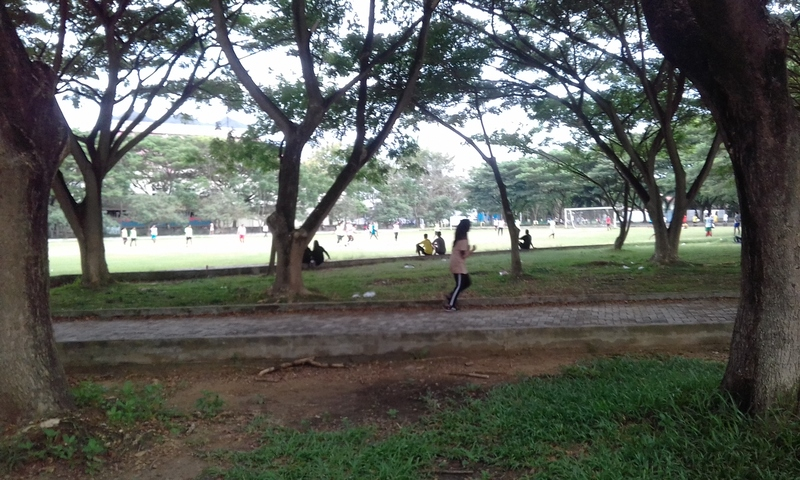person: (442, 216, 482, 313)
